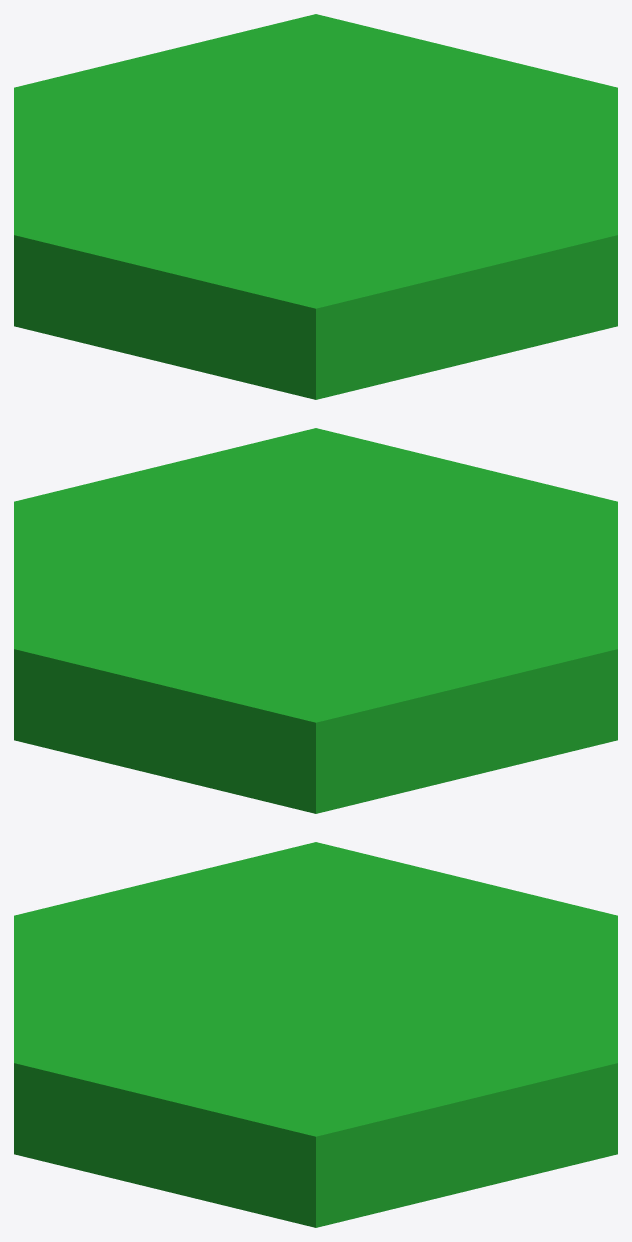
File: tile-biome_ground_grassland_full.glb
3 renders of one model, top to bottom at view 1: azimuth 30°, elevation 25°; view 2: azimuth 150°, elevation 25°; view 3: azimuth 270°, elevation 25°, orthographic.
Parts seen in each view (by area): view 1: tile-biome_ground_grassland_full; view 2: tile-biome_ground_grassland_full; view 3: tile-biome_ground_grassland_full.
Part boxes in pixels (x1,y1,x2,y2): tile-biome_ground_grassland_full: (14, 14, 617, 399); tile-biome_ground_grassland_full: (14, 428, 617, 813); tile-biome_ground_grassland_full: (14, 842, 617, 1227).
Size of the model in its own units: 3.46 by 0.5 by 3.
